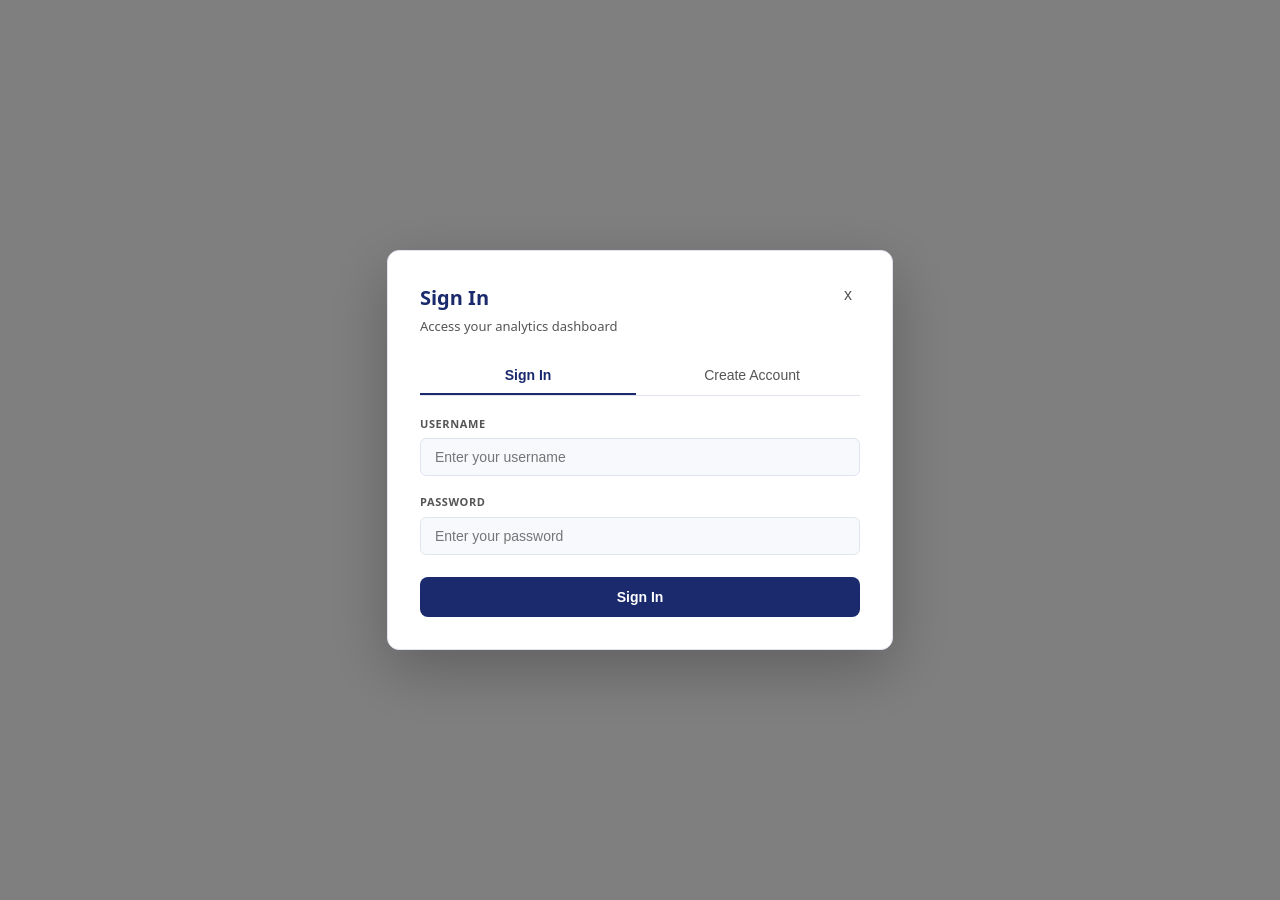
Scenario: LoginModel › shows an error when username is filled but password is empty
Type "josh" into the field with placeholder "Enter your username" at {"x": 640, "y": 457}, box [420,438,860,476]
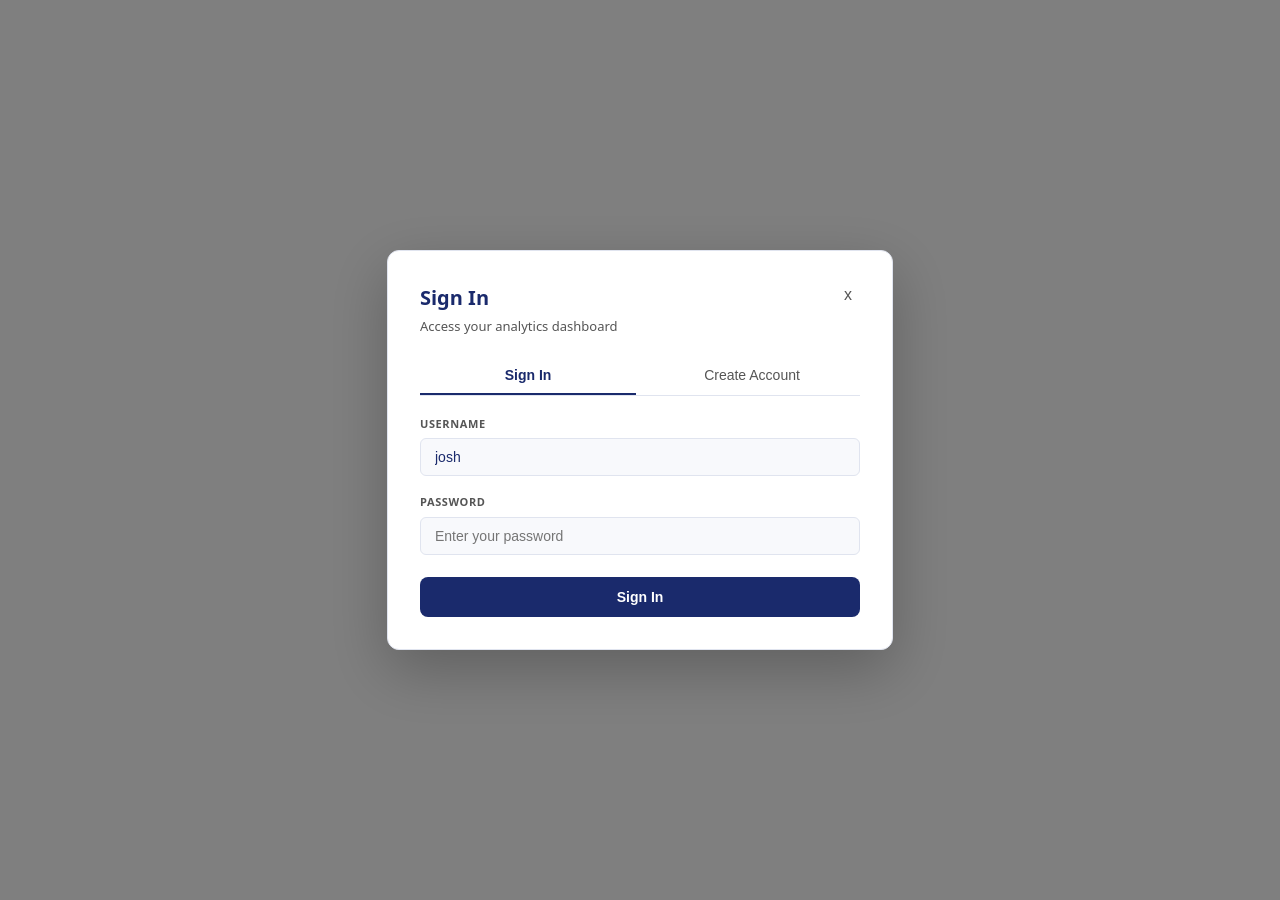
Click the 2nd button "Sign In" at {"x": 640, "y": 597}, box [420,577,860,617]
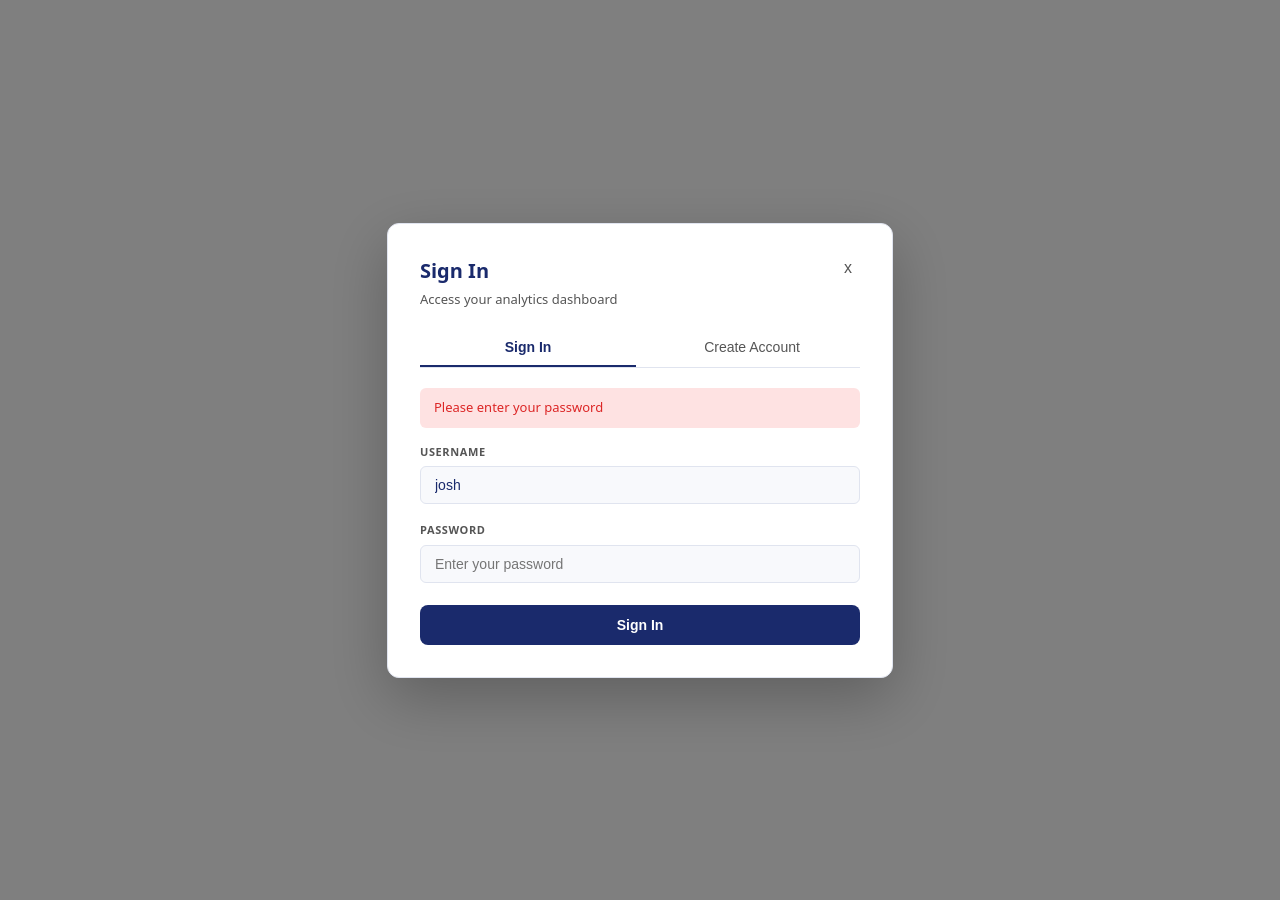
Check: the text "Please enter your password" is shown, box [420,388,860,428]
